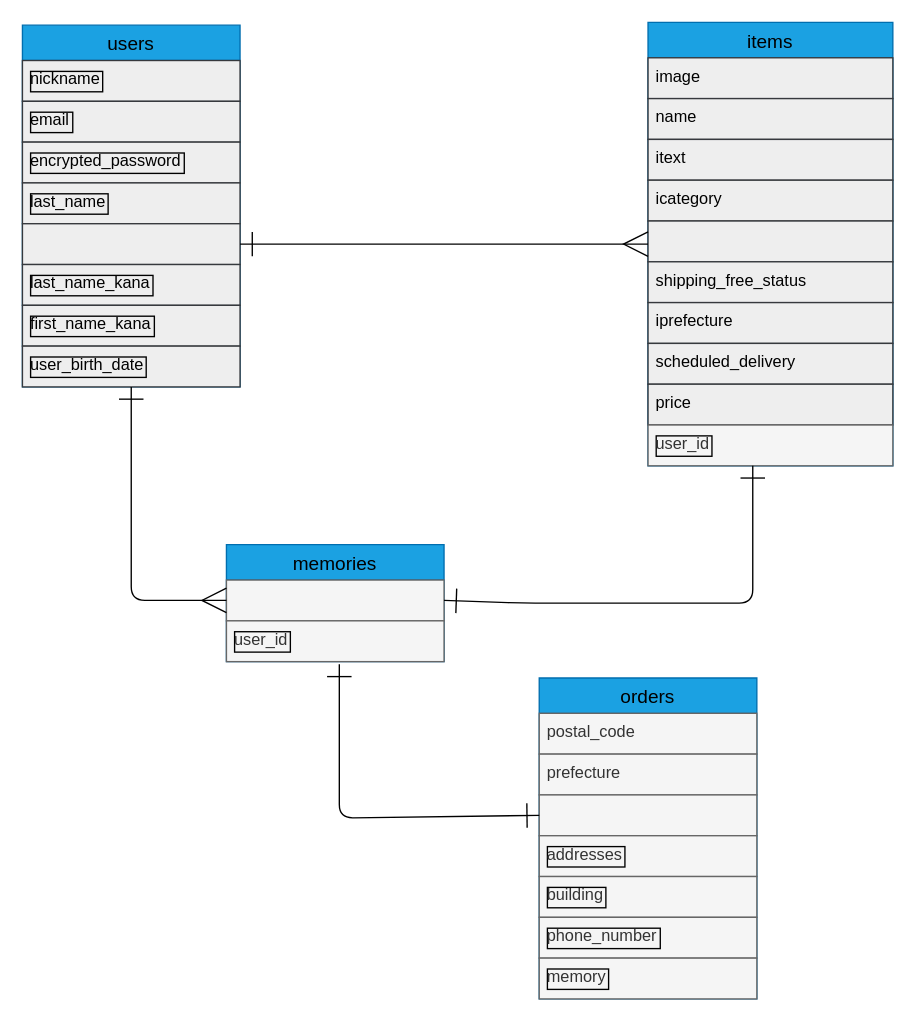
This 915x1021 diagram has some shape labels left out. Here are the shapes that lost their labels. From the top down, the centre of each, then its label:
[130,243]: first_name
[770,241]: sales_status
[334,600]: item_id
[647,815]: city
